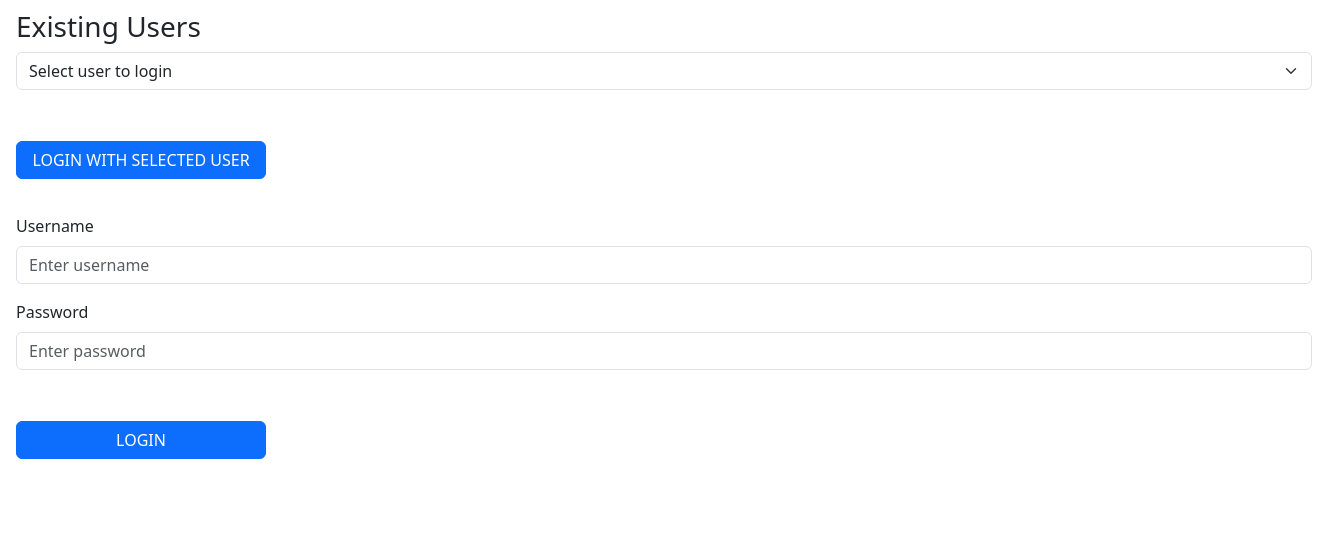
it: LoginPage › should display error message when username or password is not correct
Type "tony" into the field with test id "username-input".
click(664, 265); type("tony")  # box 16,246 -> 1312,284
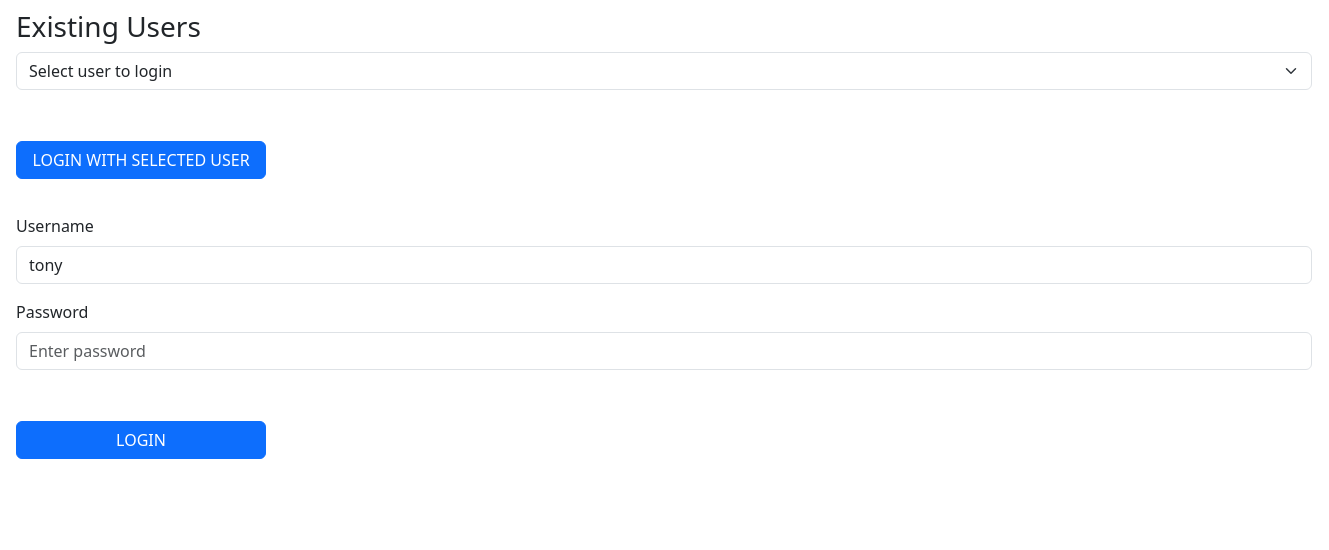
Type "ezekiel" into the password field with test id "password-input".
click(664, 351); type("ezekiel")  # box 16,332 -> 1312,370
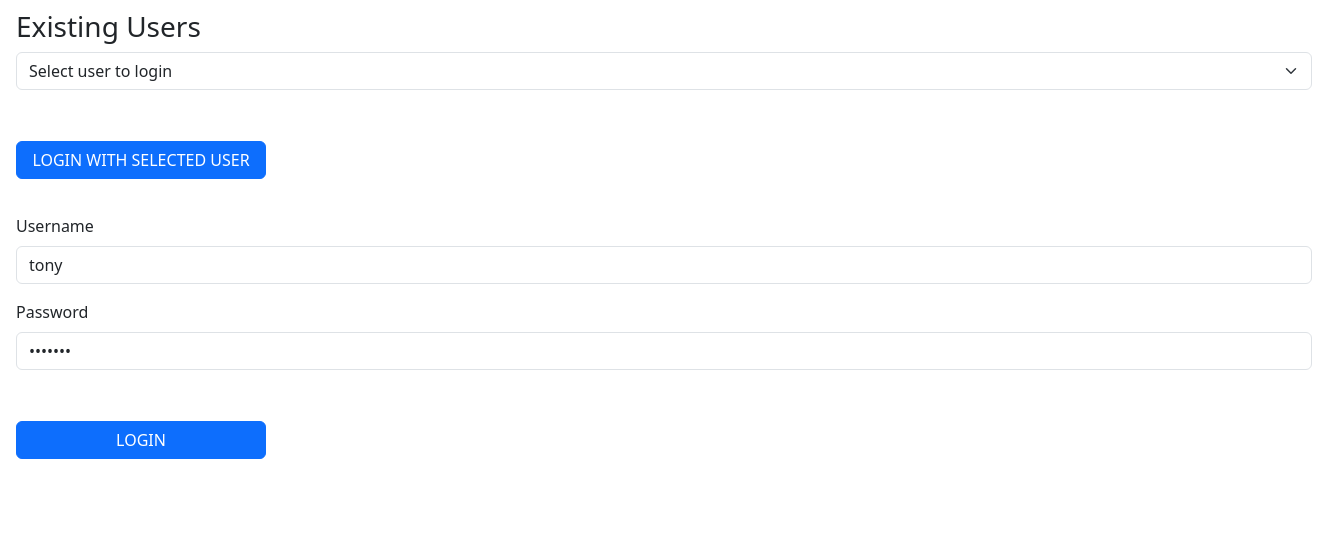
Click the button with test id "submit-login".
click(141, 440)  # box 16,421 -> 266,459
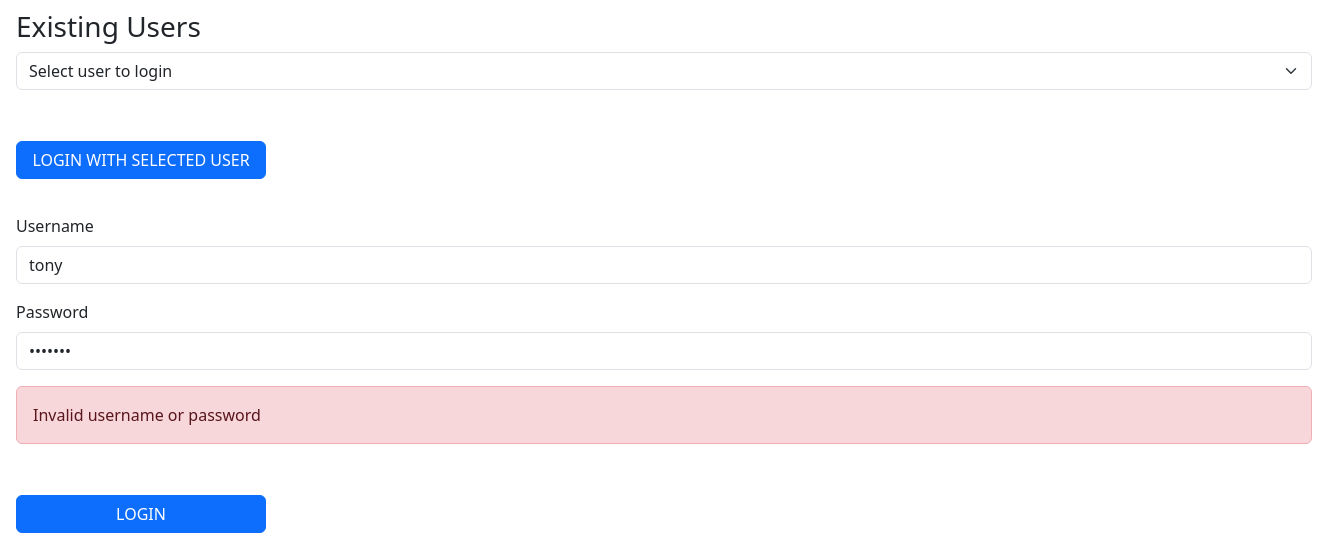
Expected: the message with test id "error-message" reads "Invalid username or password", 33,404 -> 261,426
